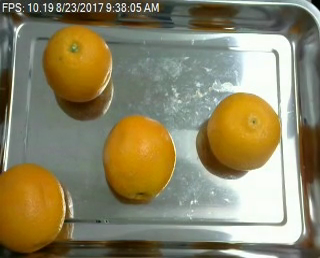Orange: (102, 114, 173, 199), (1, 162, 66, 252), (208, 92, 282, 171), (44, 24, 112, 103)
